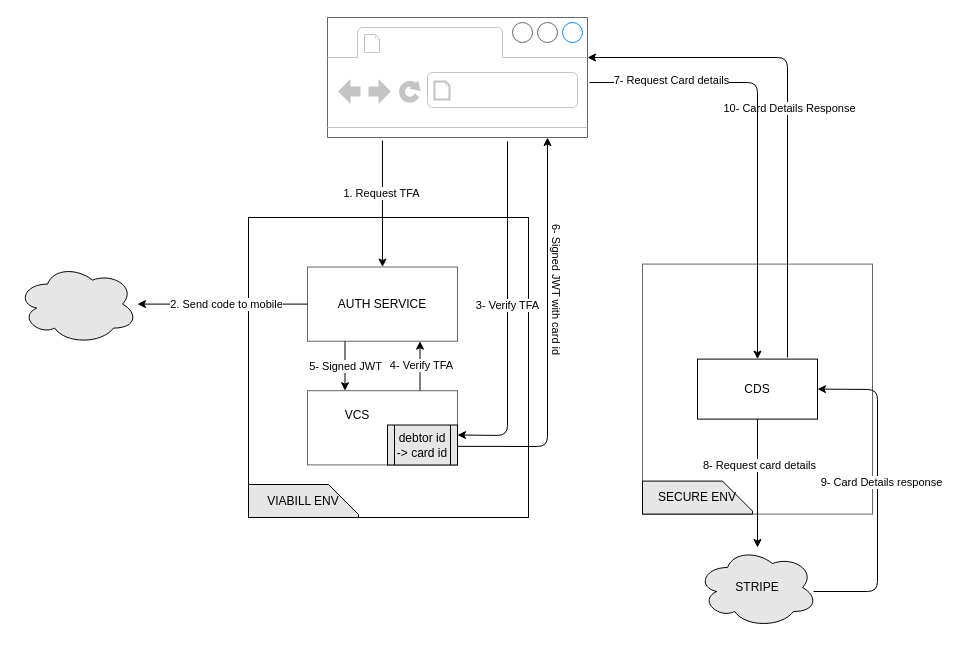
The diagram is 959 pixels wide and 645 high, and some of its shapes have lost their labels. Each missing label, with the centre of its shape:
my-viabill: (582,90)
Page 1: (442,42)
User Mobile: (77,303)
